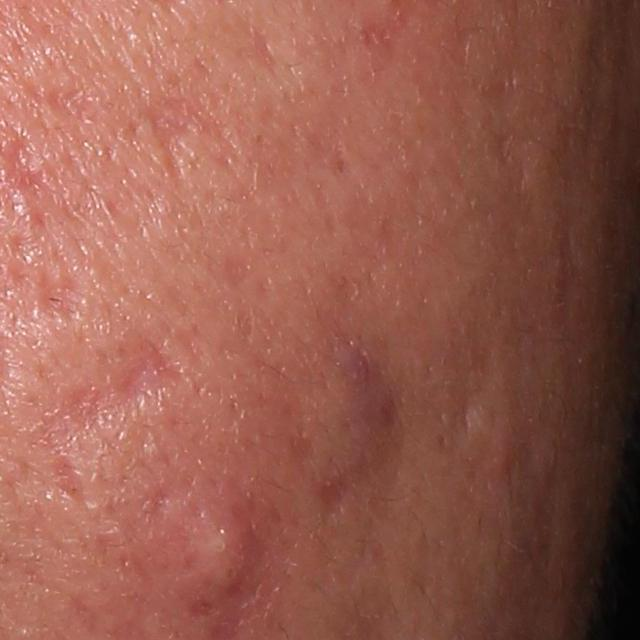atrophic_scar: (29, 327, 186, 524), (334, 348, 410, 514), (144, 93, 230, 192), (452, 356, 490, 460)
